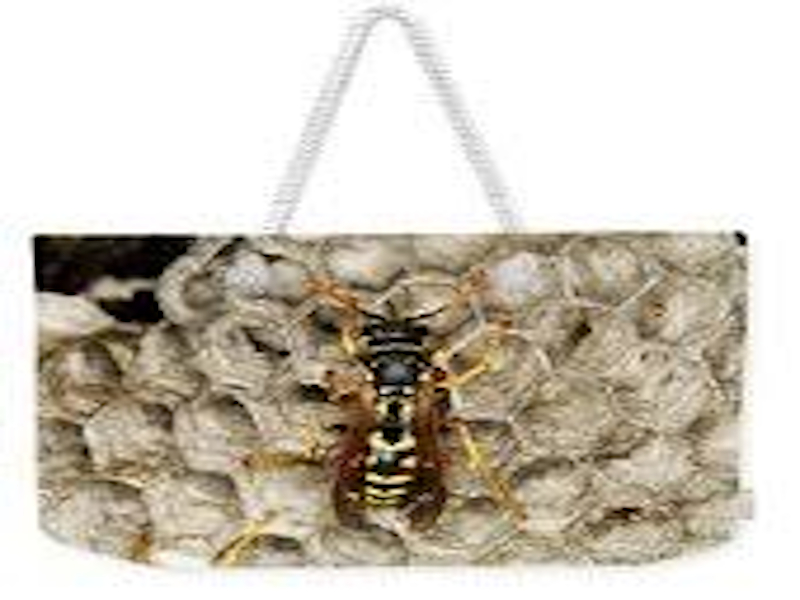chax: (293, 288, 509, 545)
